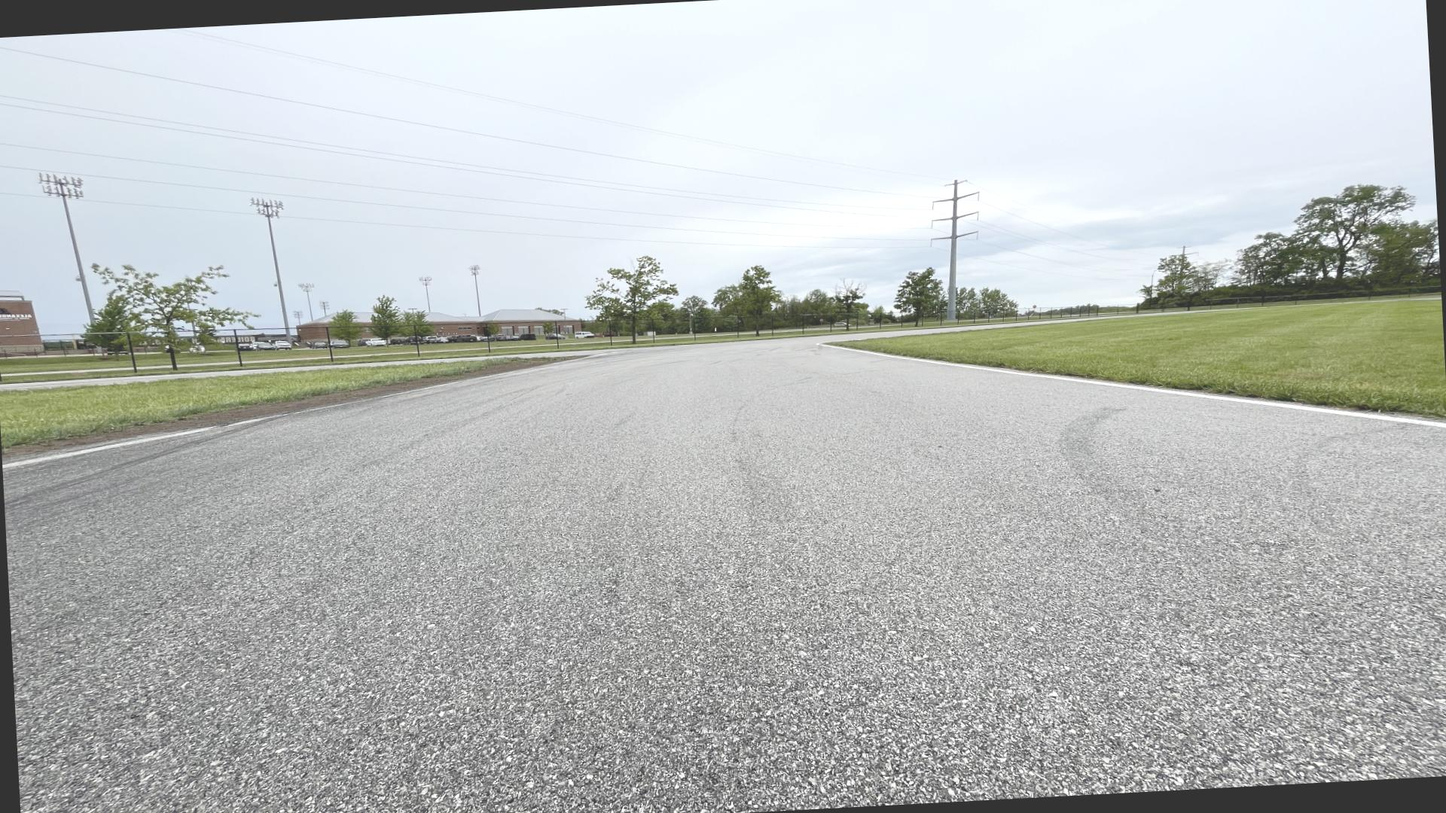white-line: (2, 354, 603, 468), (815, 343, 1445, 428)
